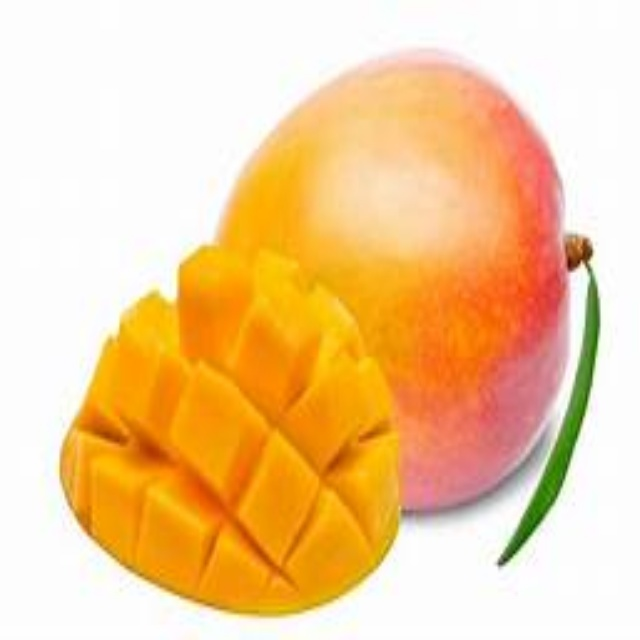mango: (217, 51, 587, 512), (63, 241, 398, 602)
